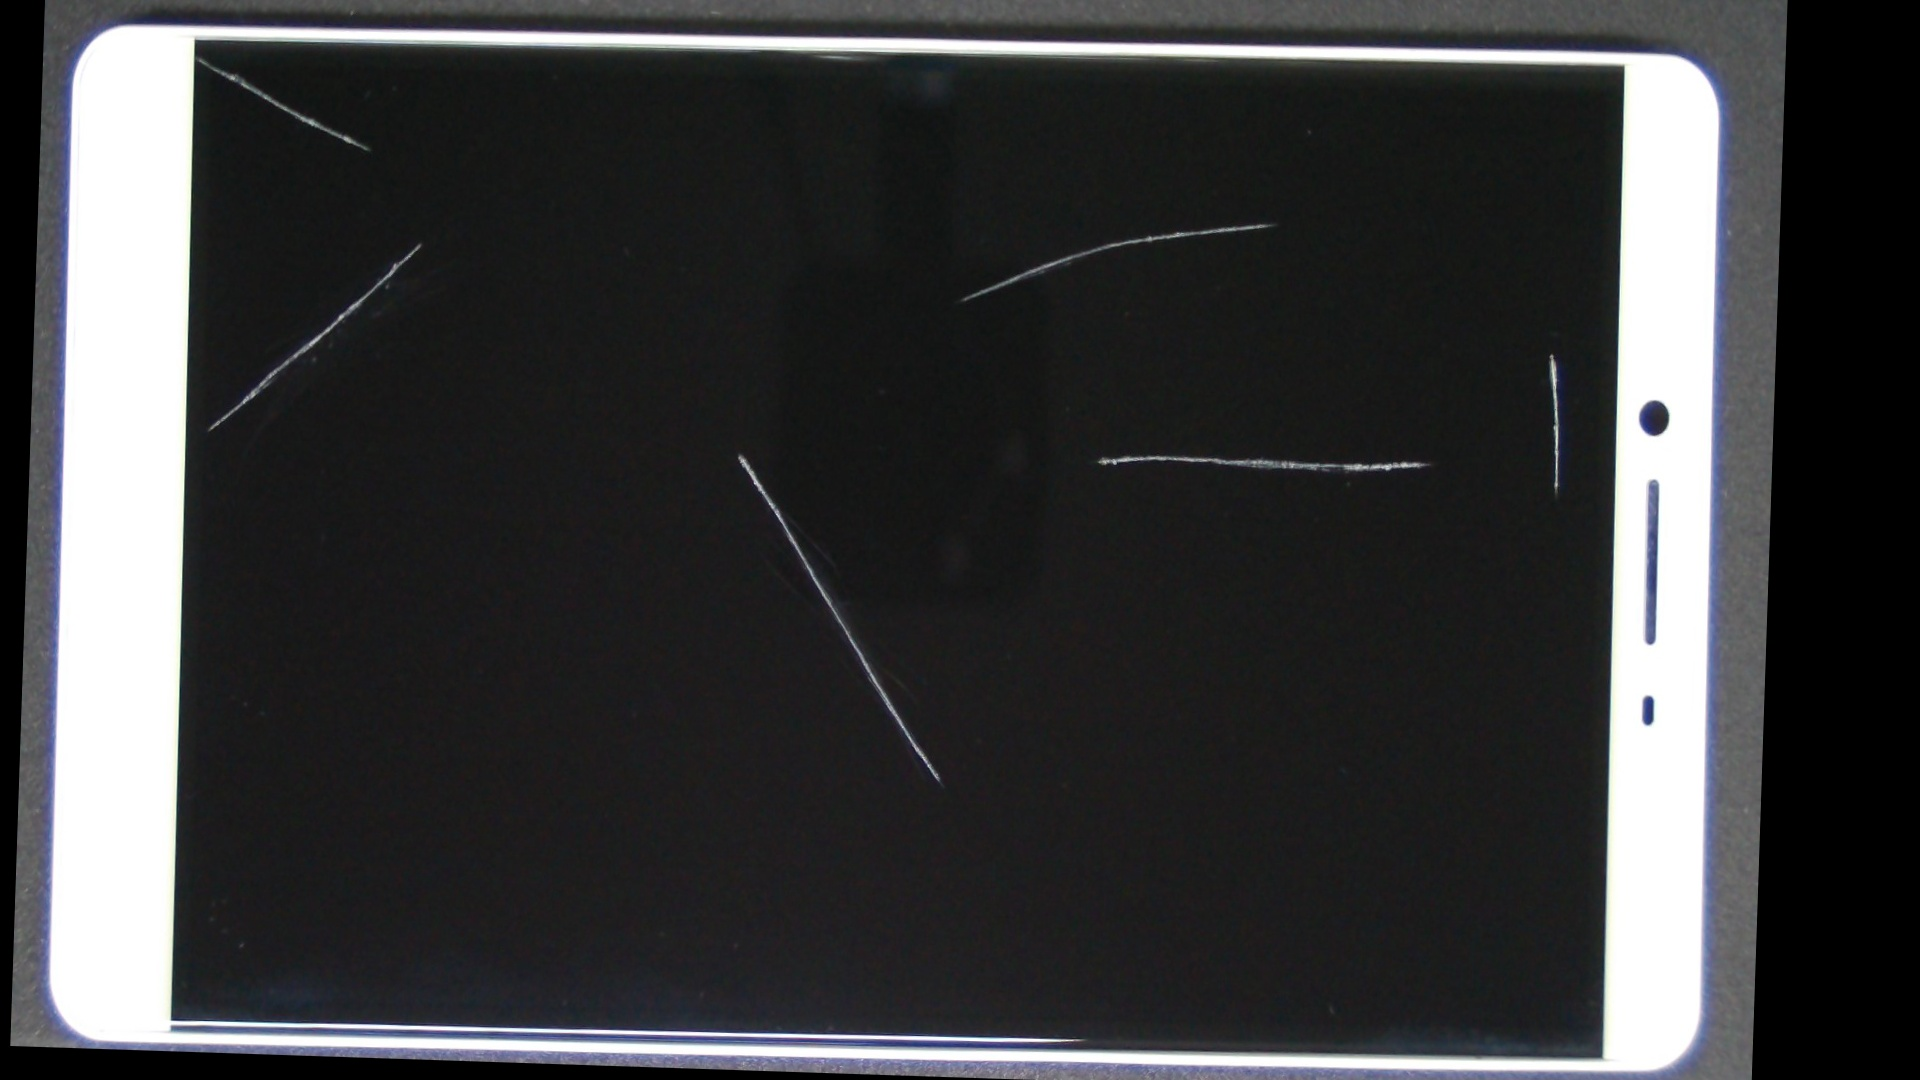oil: (707, 169, 1780, 741), (787, 115, 1783, 572), (375, 164, 1100, 741), (644, 50, 1784, 393), (224, 59, 616, 423), (117, 0, 276, 144)
